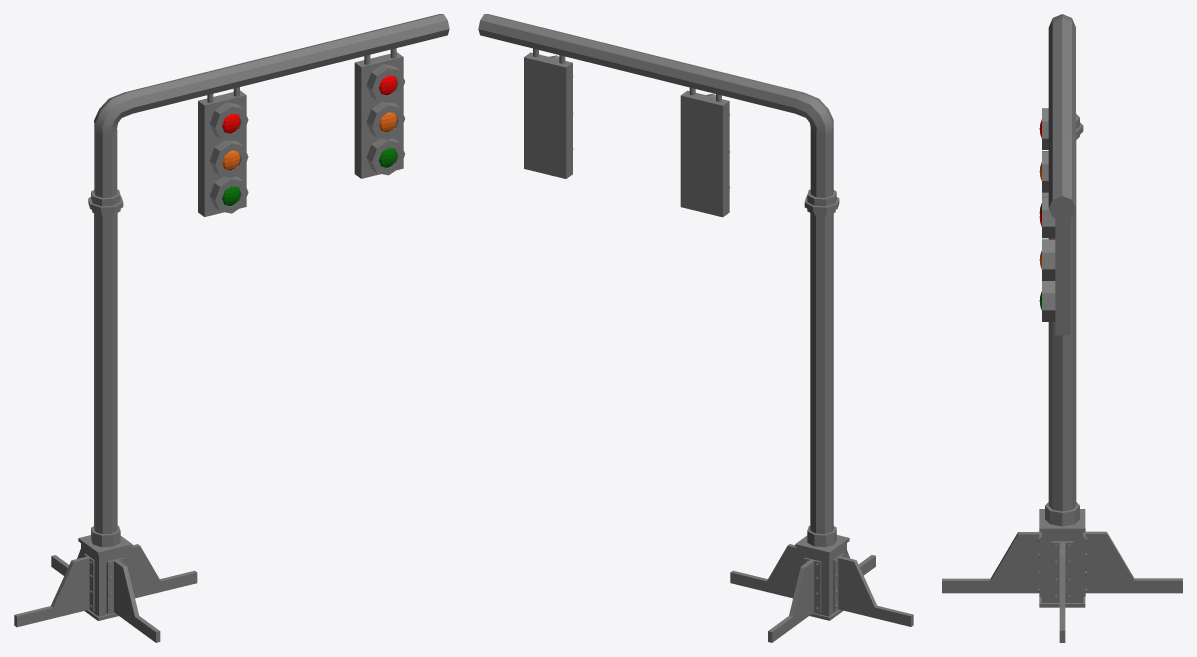
File: traffic_light.obj
The picture shows the model from 3 angles, left to right: view 1: azimuth 30°, elevation 25°; view 2: azimuth 150°, elevation 25°; view 3: azimuth 270°, elevation 25°; orthographic projection. The views are drawn at different scales.
Parts seen in each view (by area): view 1: pCylinder15, pCylinder11, pCube6, pCube5, polySurface3, polySurface4, polySurface1, pCube1, pPipe1, pPipe4, pPipe5, pPipe2 (+2 smaller); view 2: pCylinder15, pCylinder11, pCube5, pCube6, polySurface3, polySurface2, polySurface1, pCube1; view 3: pCylinder11, pCylinder15, polySurface2, polySurface4, pCube6, pCube1, polySurface1, pPipe5, pCylinder12, pPipe6, pCube3, pPipe4.
Part boxes in pixels (x1,y1,x2,y2): pCylinder15: (94,14,449,197); pCylinder11: (94,213,117,534); pCube6: (354,52,403,178); pCube5: (198,90,246,216); polySurface3: (14,553,94,627); polySurface4: (106,557,160,642); polySurface1: (130,544,197,598); pCube1: (81,543,129,616); pPipe1: (209,102,248,141); pPipe4: (366,64,405,102); pPipe5: (366,102,405,139); pPipe2: (209,140,248,177); pCylinder15: (478,14,833,197); pCylinder11: (810,213,833,534); pCube5: (680,90,729,217); pCube6: (524,52,572,178); polySurface3: (833,553,913,626); polySurface2: (768,557,821,642); polySurface1: (730,544,797,598); pCube1: (797,543,846,616); pCylinder11: (1048,140,1076,511); pCylinder15: (1048,14,1075,220); polySurface2: (1083,528,1182,596); polySurface4: (942,532,1041,596); pCube6: (1055,218,1070,335); pCube1: (1041,532,1083,602); polySurface1: (1051,541,1073,642); pPipe5: (1042,239,1055,280); pCylinder12: (1045,502,1079,526); pPipe6: (1042,281,1055,321); pCube3: (1039,509,1085,531); pPipe4: (1042,196,1055,238).
Bounding box in the file's own units: 55.08 × 63.08 × 23.23.
